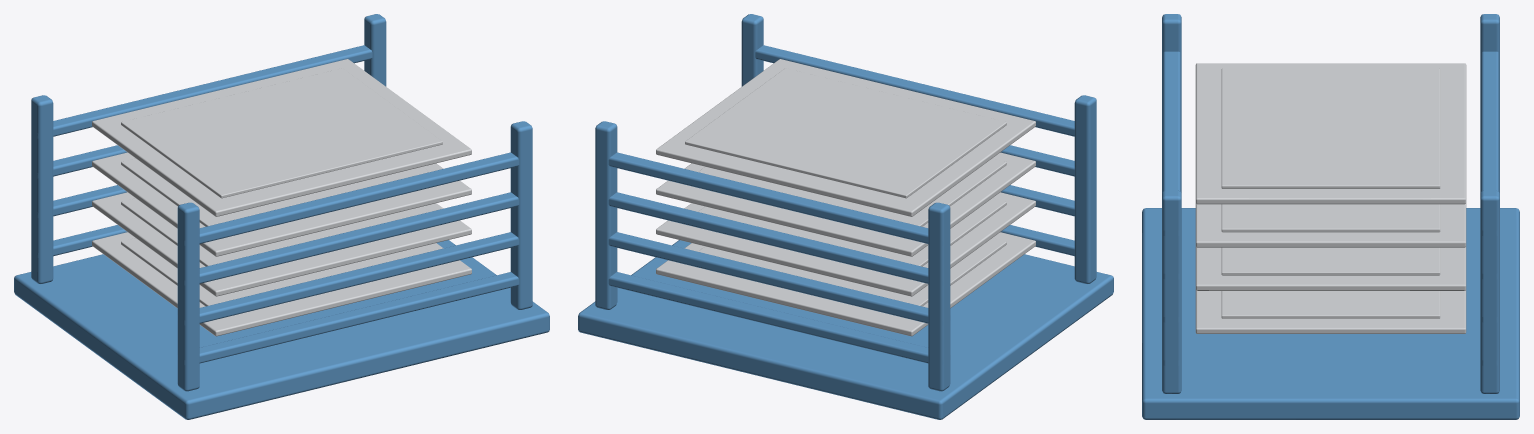
File: stamped-roof-panel-rack.glb
3 renders of one model, left to right at view 1: azimuth 30°, elevation 25°; view 2: azimuth 150°, elevation 25°; view 3: azimuth 270°, elevation 25°, orthographic. The views are drawn at different scales.
Visible parts, largest first — view 1: stamped-roof-panel-rack; view 2: stamped-roof-panel-rack; view 3: stamped-roof-panel-rack.
Boxes of the visible parts, x1,y1,x2,y2 form: stamped-roof-panel-rack: (14, 14, 549, 419); stamped-roof-panel-rack: (578, 14, 1113, 419); stamped-roof-panel-rack: (1142, 14, 1519, 419).
Size of the model in its own units: 2.3 by 1.22 by 1.9.
